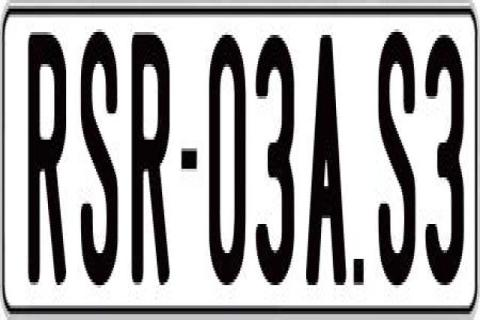0: (206, 32, 248, 300), (424, 29, 464, 288), (255, 29, 295, 282)
A: (304, 32, 348, 296)
R: (27, 23, 70, 291), (129, 26, 171, 288)
S: (80, 29, 122, 294), (376, 29, 416, 288)
